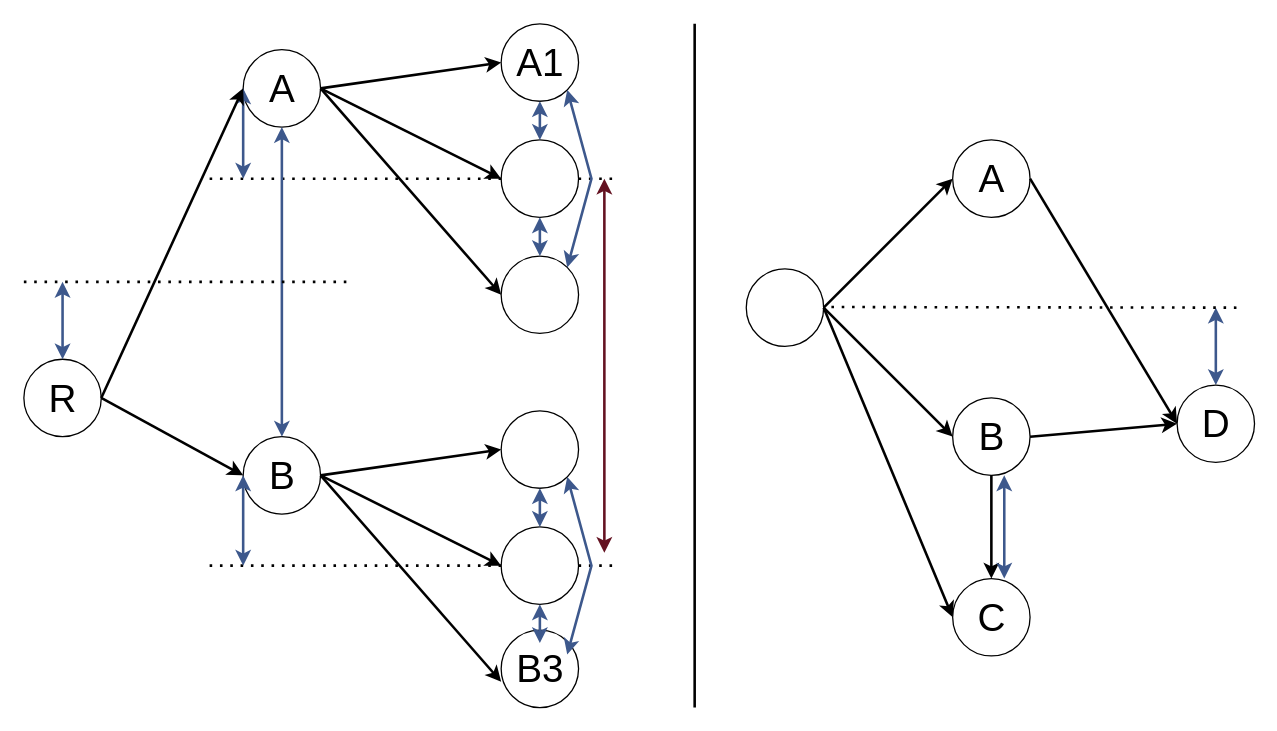
Image size: 1277x731. Some labels were removed from this diagram. The shapes that lost their labels are listed below. From the top down, each one's box as (x1, y1, x2, y2) in pixels, then its label:
(500, 139, 579, 217): A2
(500, 255, 579, 333): A3
(745, 268, 824, 346): LCSA
(500, 410, 579, 488): B1
(500, 526, 579, 604): B2
